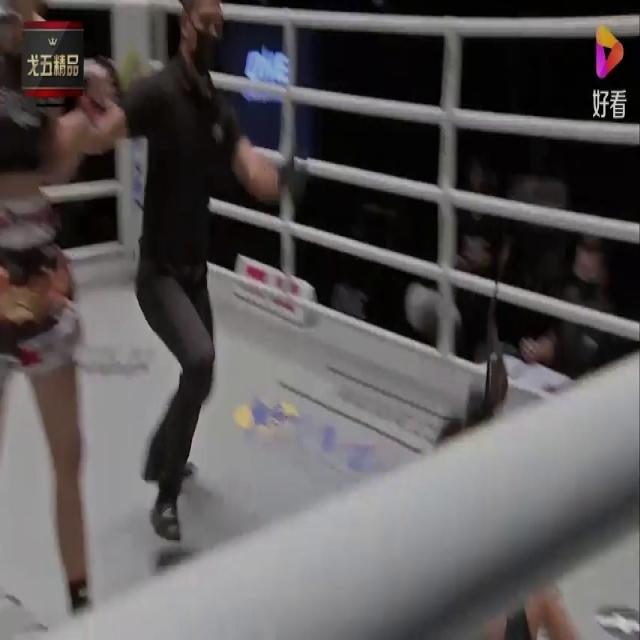non-fight: (68, 0, 310, 565)
